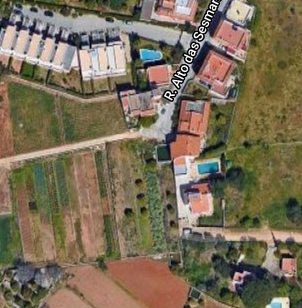pool: (139, 49, 165, 62), (196, 161, 220, 175)
